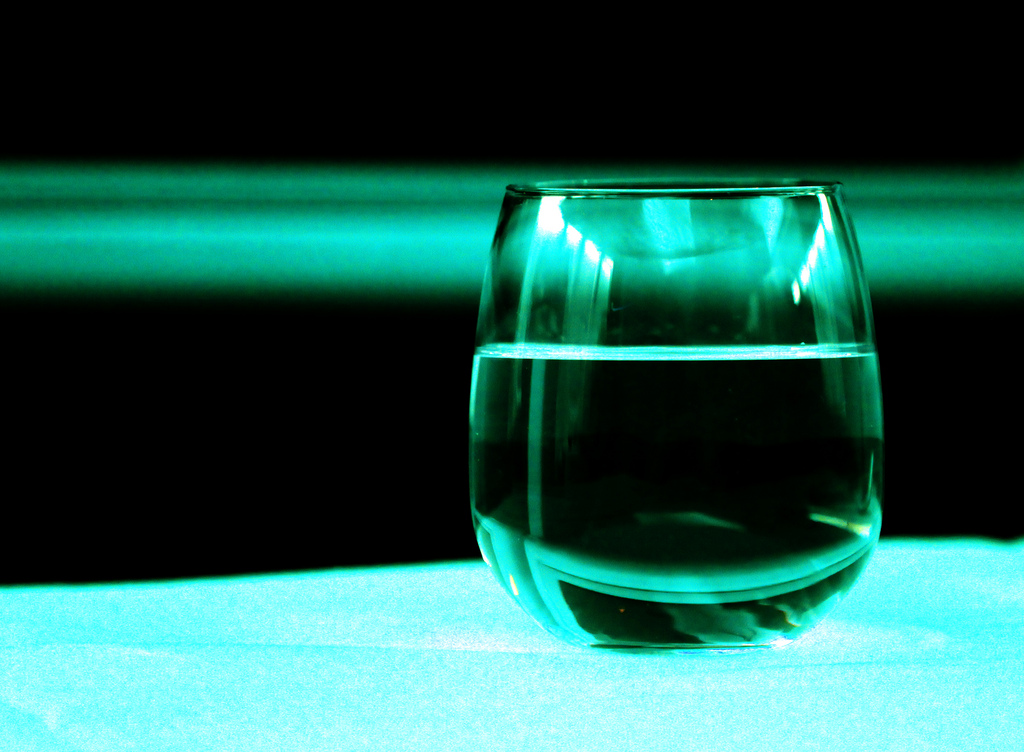glass of water: (473, 186, 882, 657)
